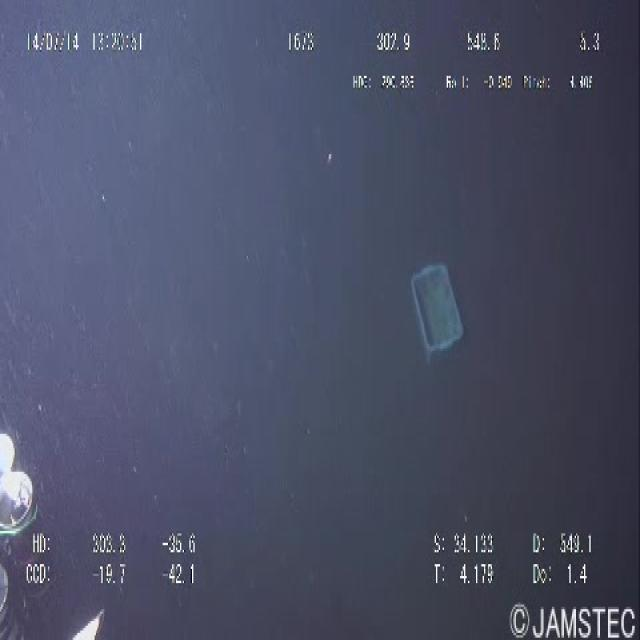plastic: (404, 244, 471, 379)
